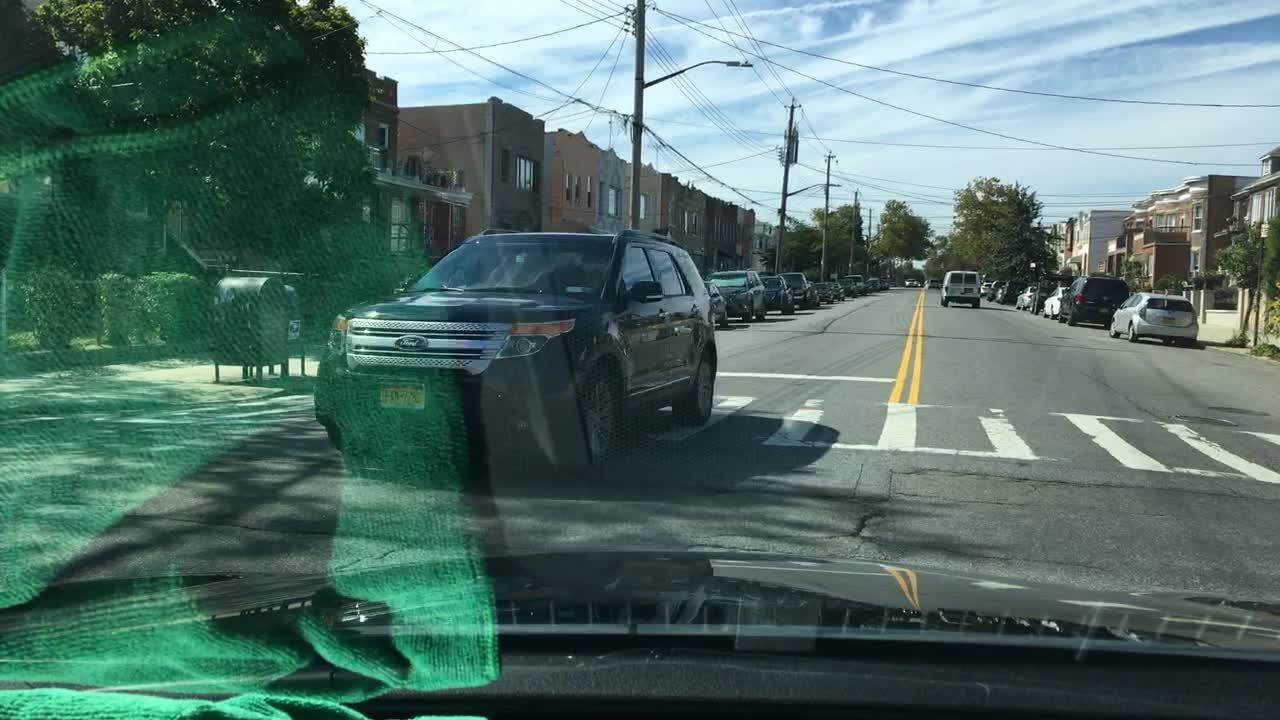ford: (389, 332, 429, 353)
